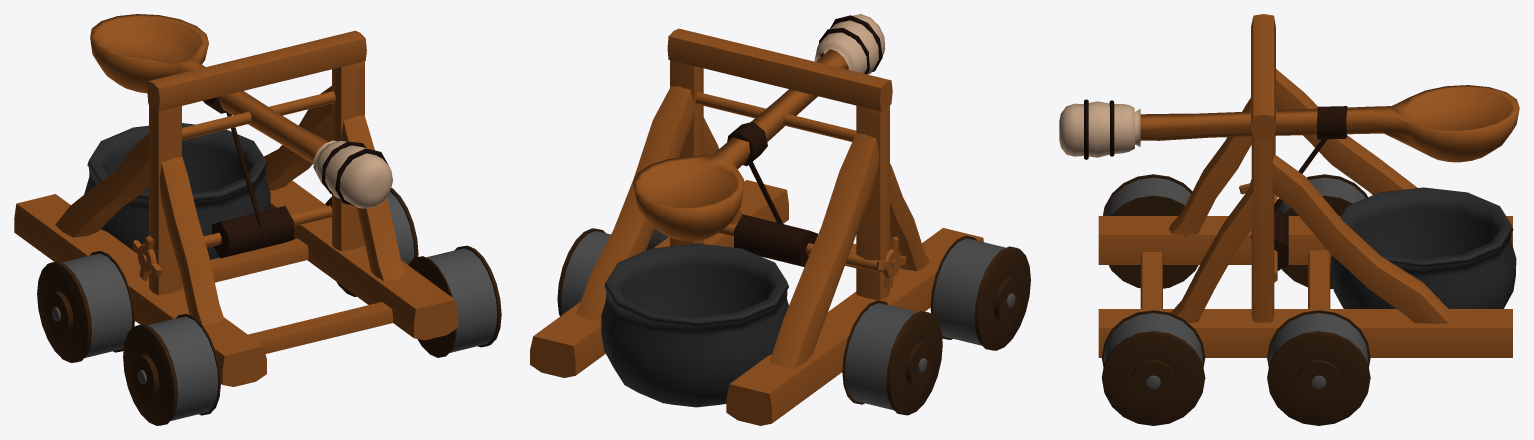
The model's file is Catapult_Porridge.FBX.
3 views of the same model, side by side, from view 1: azimuth 30°, elevation 25°; view 2: azimuth 150°, elevation 25°; view 3: azimuth 270°, elevation 25° (orthographic). The views are drawn at different scales.
Visible parts, largest first — view 1: Catapult, Spoon, RopeBase, Rope; view 2: Catapult, Spoon, RopeBase, RopeAttachment; view 3: Catapult, Spoon, RopeAttachment, RopeBase.
Part boxes in pixels (<box>): Catapult: <box>14,30,501,425</box>; Spoon: <box>90,14,392,208</box>; RopeBase: <box>212,206,293,258</box>; Rope: <box>226,112,266,236</box>; Catapult: <box>530,28,1030,425</box>; Spoon: <box>633,14,885,240</box>; RopeBase: <box>734,214,817,266</box>; RopeAttachment: <box>727,121,767,165</box>; Catapult: <box>1098,14,1516,425</box>; Spoon: <box>1059,85,1519,162</box>; RopeAttachment: <box>1317,106,1347,139</box>; RopeBase: <box>1274,209,1288,270</box>.
Size of the model in its own units: 312 by 248 by 366.
